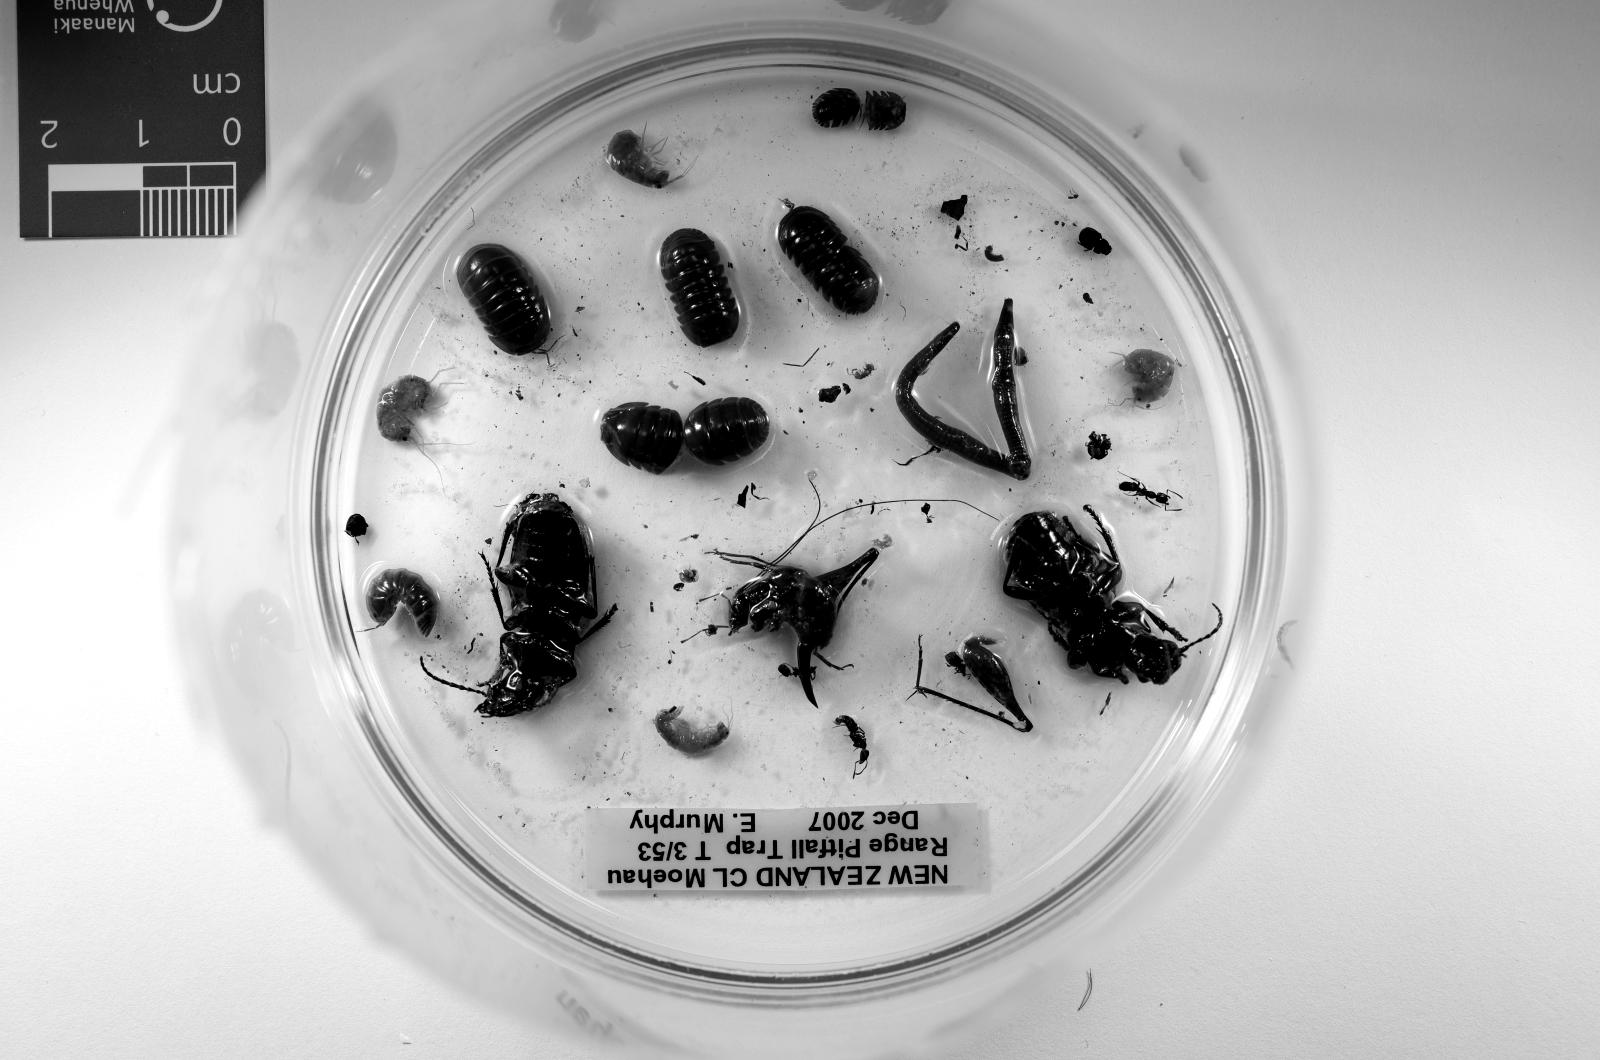amphipoda: (607, 130, 672, 189), (378, 376, 434, 441), (656, 707, 728, 755), (1122, 348, 1175, 403)
annelida: (894, 298, 1031, 478)
carabidae: (434, 493, 616, 717), (1003, 506, 1193, 684)
coleoptera: (1078, 227, 1113, 254), (944, 652, 966, 677)
formicidae: (835, 715, 869, 776), (1119, 478, 1172, 509)
isopoda: (778, 205, 879, 314), (456, 245, 550, 354), (660, 230, 740, 348), (600, 403, 685, 476), (685, 397, 769, 466), (365, 568, 438, 636), (812, 88, 862, 128), (862, 90, 906, 130)
orthoptera: (715, 547, 879, 705)
